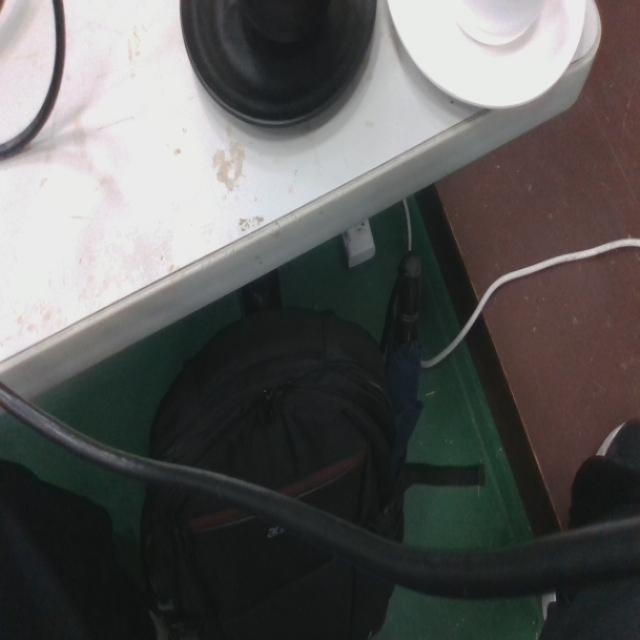black: (176, 0, 379, 134)
white: (383, 0, 590, 115)
